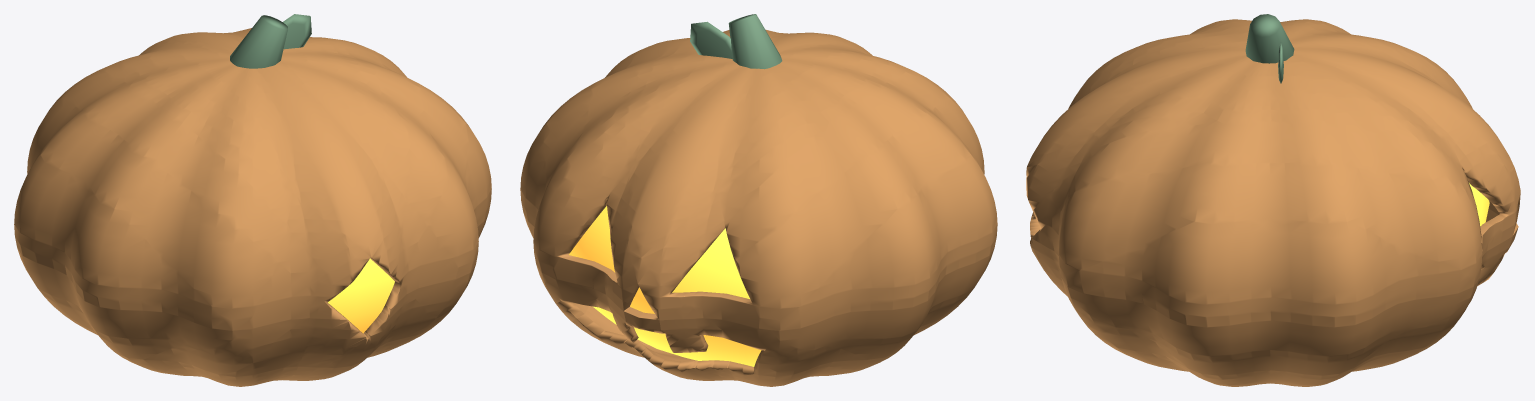
Rendered from jack_o_lantern.glb.
The picture shows the model from 3 angles, left to right: view 1: azimuth 30°, elevation 25°; view 2: azimuth 150°, elevation 25°; view 3: azimuth 270°, elevation 25°; orthographic projection. The views are drawn at different scales.
Bounding box in the file's own units: 6.92 × 5.49 × 7.11.
